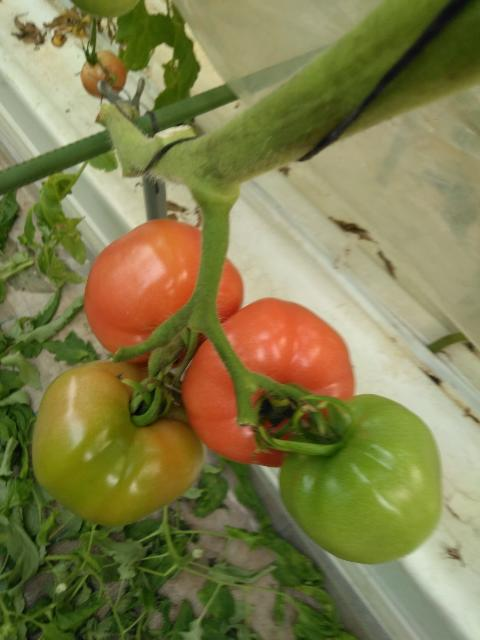b_fully_ripened: (180, 297, 354, 469), (84, 218, 244, 370)
b_green: (278, 393, 441, 564), (70, 0, 139, 17)
b_half_ripened: (33, 359, 209, 527), (81, 50, 127, 100)
